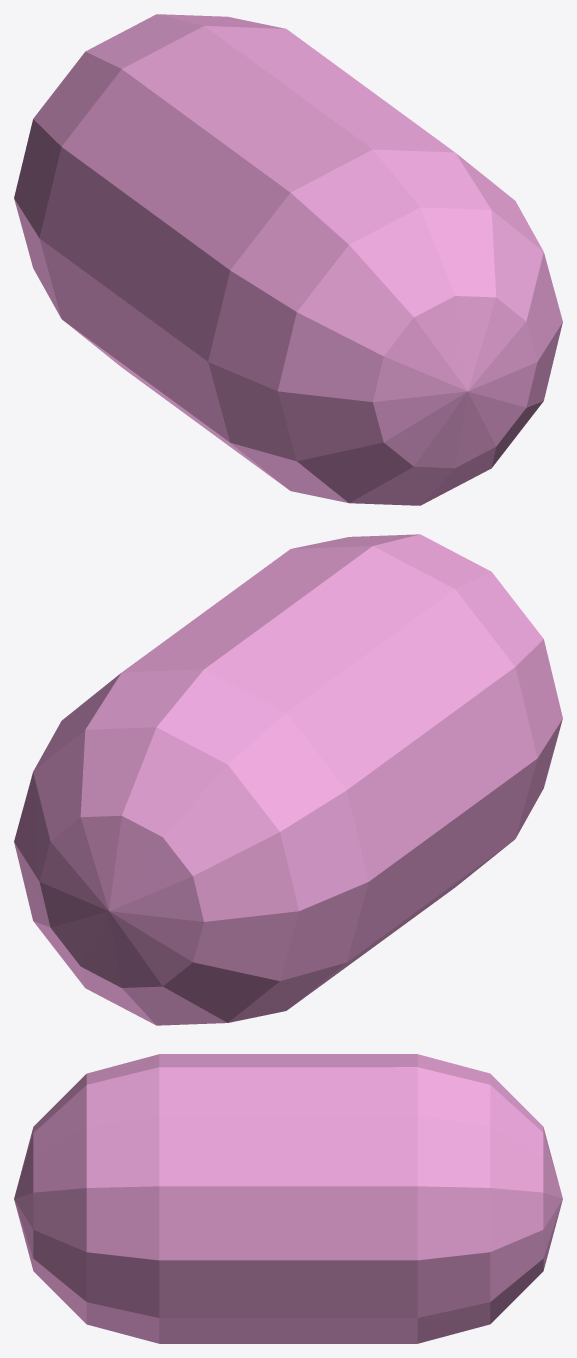
Rendered from ammo-crate.glb.
The picture shows the model from 3 angles, top to bottom: view 1: azimuth 30°, elevation 25°; view 2: azimuth 150°, elevation 25°; view 3: azimuth 270°, elevation 25°; orthographic projection. The views are drawn at different scales.
Parts seen in each view (by area): view 1: root_J; view 2: root_J; view 3: root_J.
Boxes of the visible parts, x1,y1,x2,y2 form: root_J: [14, 14, 562, 505]; root_J: [14, 534, 562, 1025]; root_J: [14, 1054, 562, 1343].
Bounding box in the file's own units: 0.2017 × 0.2017 × 0.3806.
